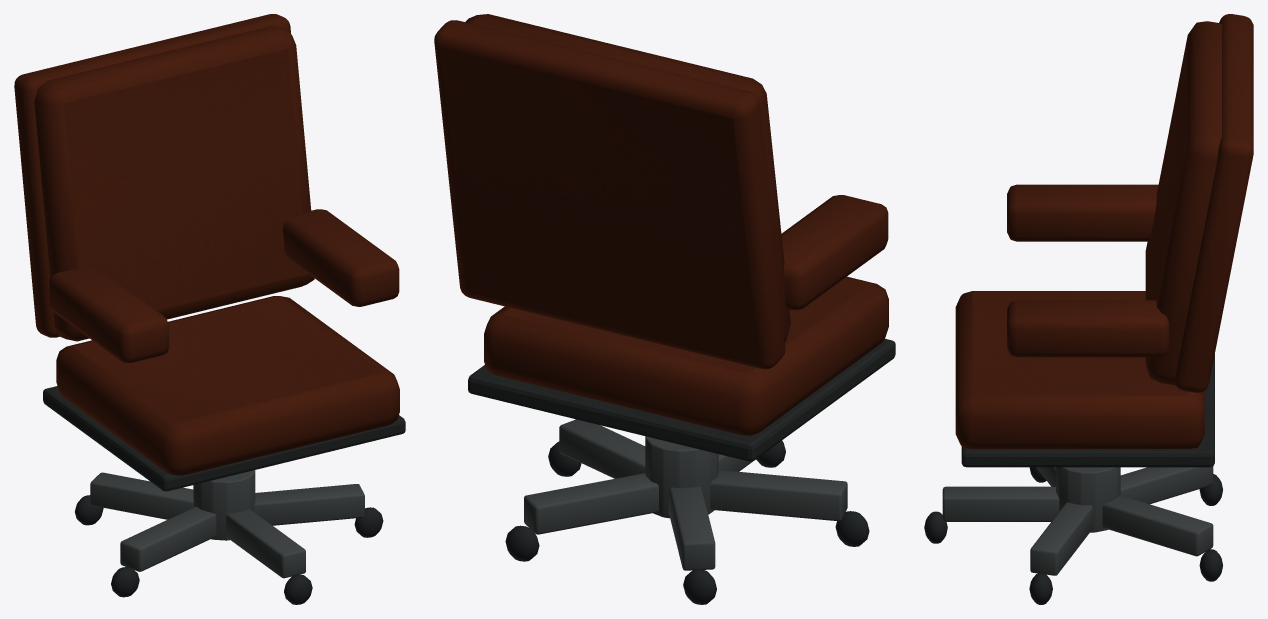
File: chair_premium_lod2.glb
3 renders of one model, left to right at view 1: azimuth 30°, elevation 25°; view 2: azimuth 150°, elevation 25°; view 3: azimuth 270°, elevation 25°, orthographic. The views are drawn at different scales.
Parts seen in each view (by area): view 1: OfficeLeather_LOD2, OfficeMetal_LOD2, OfficePlastic_LOD2, OfficeCasterRubberSet_LOD2; view 2: OfficeLeather_LOD2, OfficeMetal_LOD2, OfficePlastic_LOD2, OfficeCasterRubberSet_LOD2; view 3: OfficeLeather_LOD2, OfficeMetal_LOD2, OfficePlastic_LOD2, OfficeCasterRubberSet_LOD2.
Part boxes in pixels (x1,y1,x2,y2): OfficeLeather_LOD2: (14,14,399,475); OfficeMetal_LOD2: (90,470,364,578); OfficePlastic_LOD2: (43,386,405,491); OfficeCasterRubberSet_LOD2: (75,495,383,604); OfficeLeather_LOD2: (434,14,888,435); OfficeMetal_LOD2: (524,419,847,570); OfficePlastic_LOD2: (468,338,895,461); OfficeCasterRubberSet_LOD2: (505,440,869,604); OfficeLeather_LOD2: (955,14,1253,448); OfficeMetal_LOD2: (942,466,1213,575); OfficePlastic_LOD2: (961,354,1214,467); OfficeCasterRubberSet_LOD2: (924,467,1222,604).
Bounding box in the file's own units: 0.746 × 1.16 × 0.7416.
Materials: 4 (2 with a texture image).
